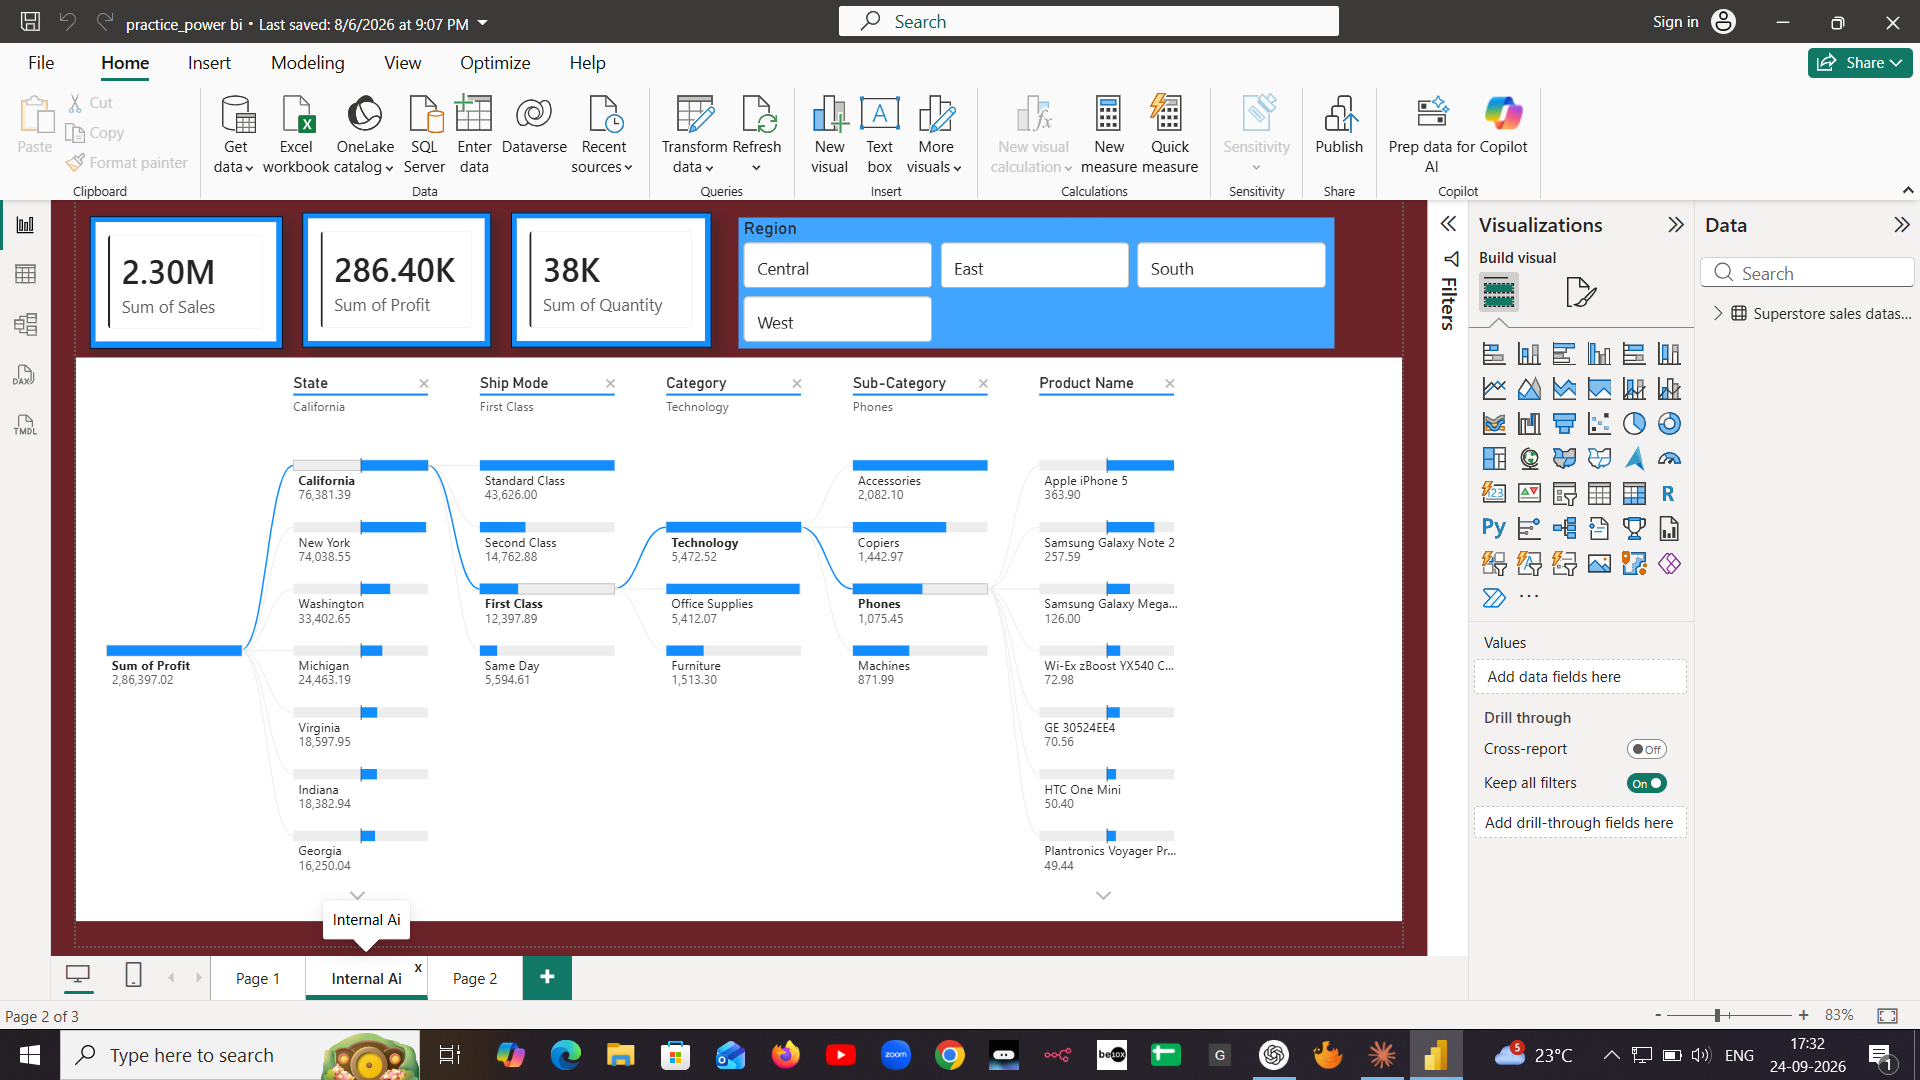

The dashboard page shown, as its layout file describes it:
{"tool":"powerbi","page":{"name":"Internal Ai ","canvas":[1280,720],"ordinal":1},"visuals":[{"type":"cardVisual","fields":{"Data":["Sum(Superstore sales dataset.Sales)"]},"box":[13.7,15.1,186.6,127.6],"z":0},{"type":"cardVisual","fields":{"Data":["Sum(Superstore sales dataset.Profit)"]},"box":[218.2,12.3,182.5,130.4],"z":1000},{"type":"cardVisual","fields":{"Data":["Sum(Superstore sales dataset.Quantity)"]},"box":[419.9,12.3,193.5,130.4],"z":2000},{"type":"advancedSlicerVisual","fields":{"Values":["Superstore sales dataset.Region"]},"box":[639.5,16.5,575,126.2],"z":3000},{"type":"decompositionTreeVisual","fields":{"Analyze":["Sum(Superstore sales dataset.Profit)"],"ExplainBy":["Superstore sales dataset.State","Superstore sales dataset.Ship Mode","Superstore sales dataset.Category","Superstore sales dataset.Sub-Category","Superstore sales dataset.Product Name"]},"box":[0,152,1280,544.1],"z":4000}]}

Visuals, with their boxes on the page's 1280x720 design canvas (x1, y1, x2, y2). These are canvas units, not pixel positions in the 1920x1080 screenshot, which may show the page scaled, cropped or inside an application window:
cardVisual - Sum(Superstore sales dataset.Sales): detection(14, 15, 200, 143)
cardVisual - Sum(Superstore sales dataset.Profit): detection(218, 12, 401, 143)
cardVisual - Sum(Superstore sales dataset.Quantity): detection(420, 12, 613, 143)
advancedSlicerVisual - Superstore sales dataset.Region: detection(640, 16, 1214, 143)
decompositionTreeVisual - Sum(Superstore sales dataset.Profit) x Superstore sales dataset.State: detection(0, 152, 1280, 696)
